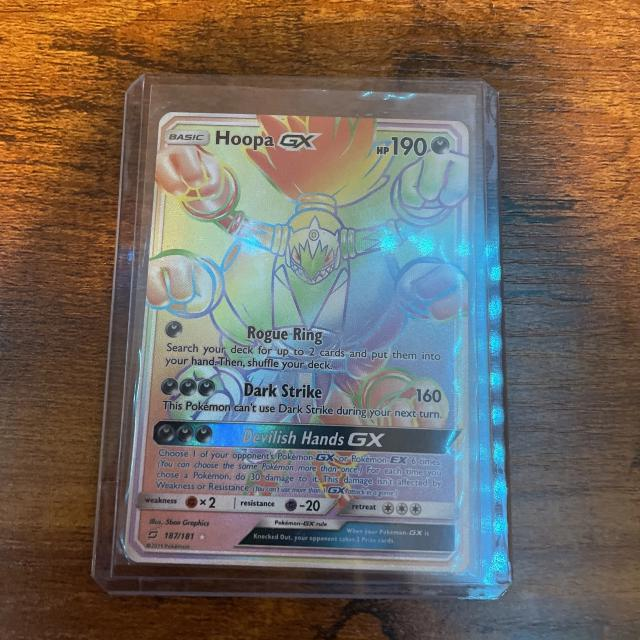Card: (119, 106, 476, 578)
Name: (209, 127, 329, 158)
